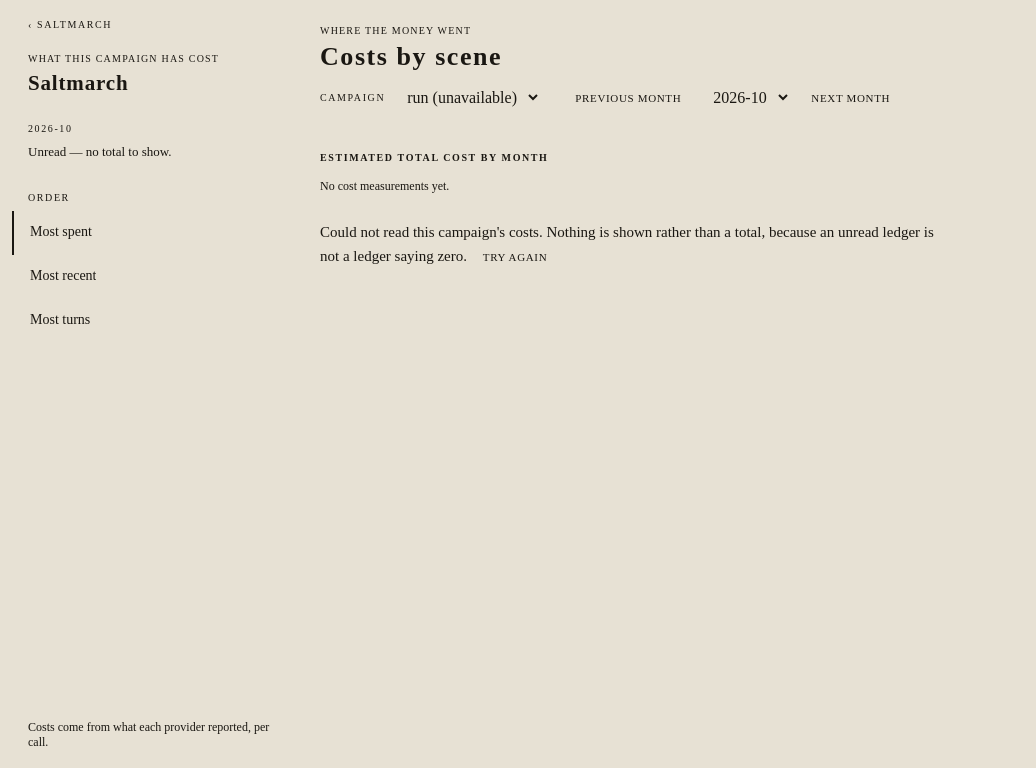
Test: a failed read can be retried
This screenshot has width=1036, height=768.
Click the button "Try again": point(515, 257) x1=471 y1=245 x2=559 y2=269
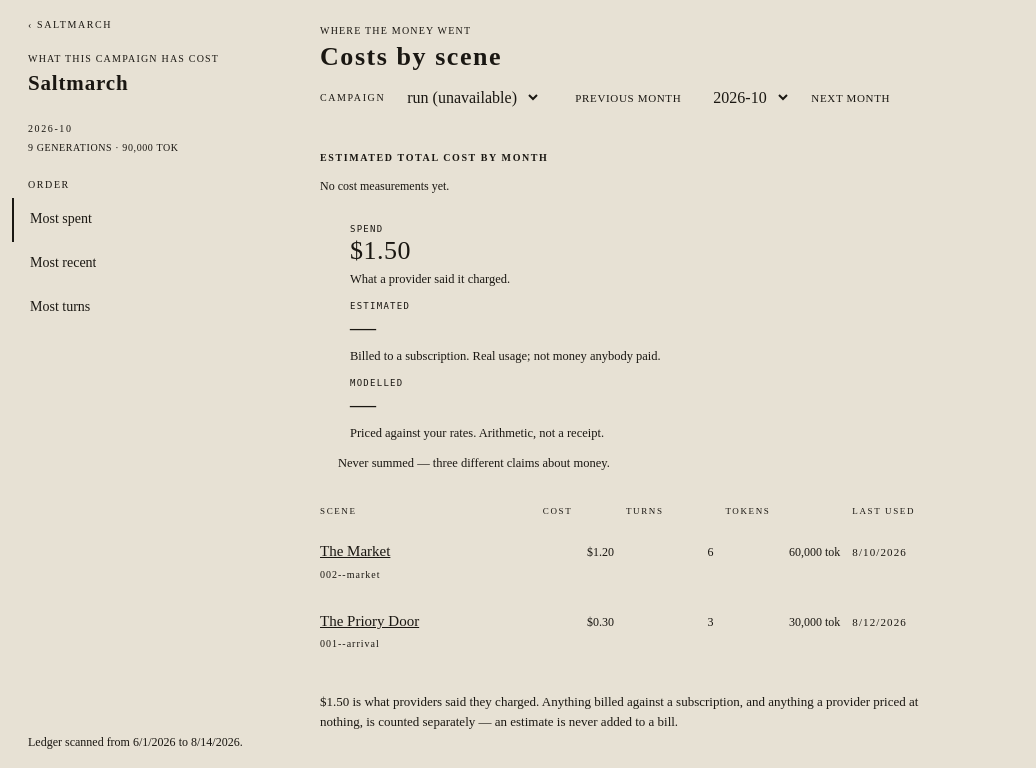
Result: the text "$1.50" is shown at x1=350 y1=236 x2=411 y2=265
